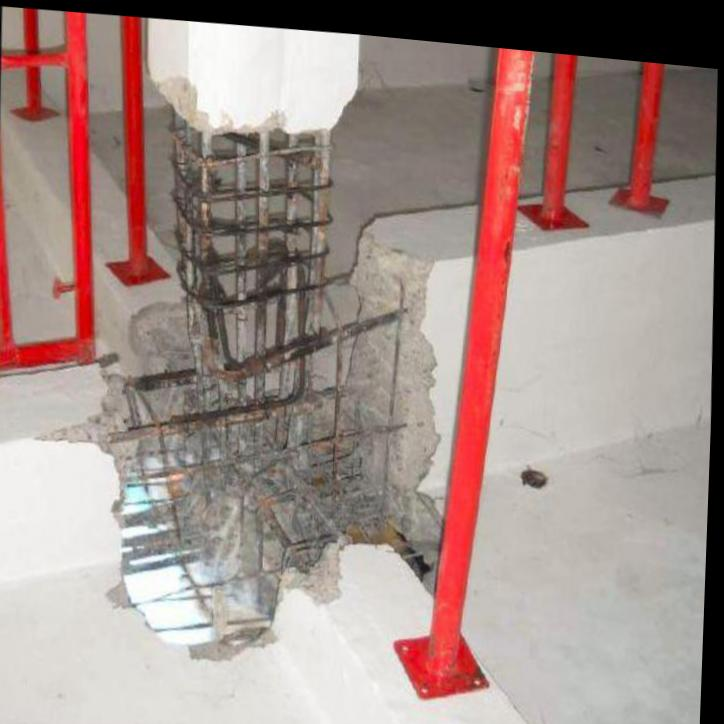damage: (42, 69, 450, 660)
